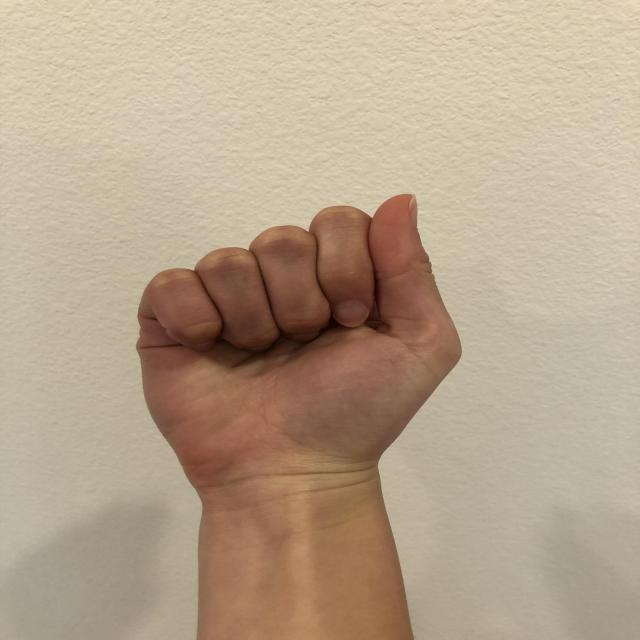A: (120, 186, 471, 516)
